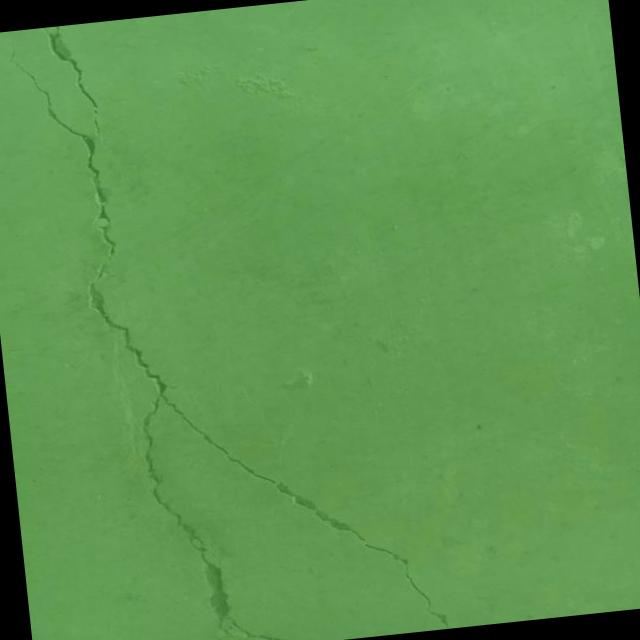crack: (9, 10, 450, 640), (46, 23, 101, 138)
